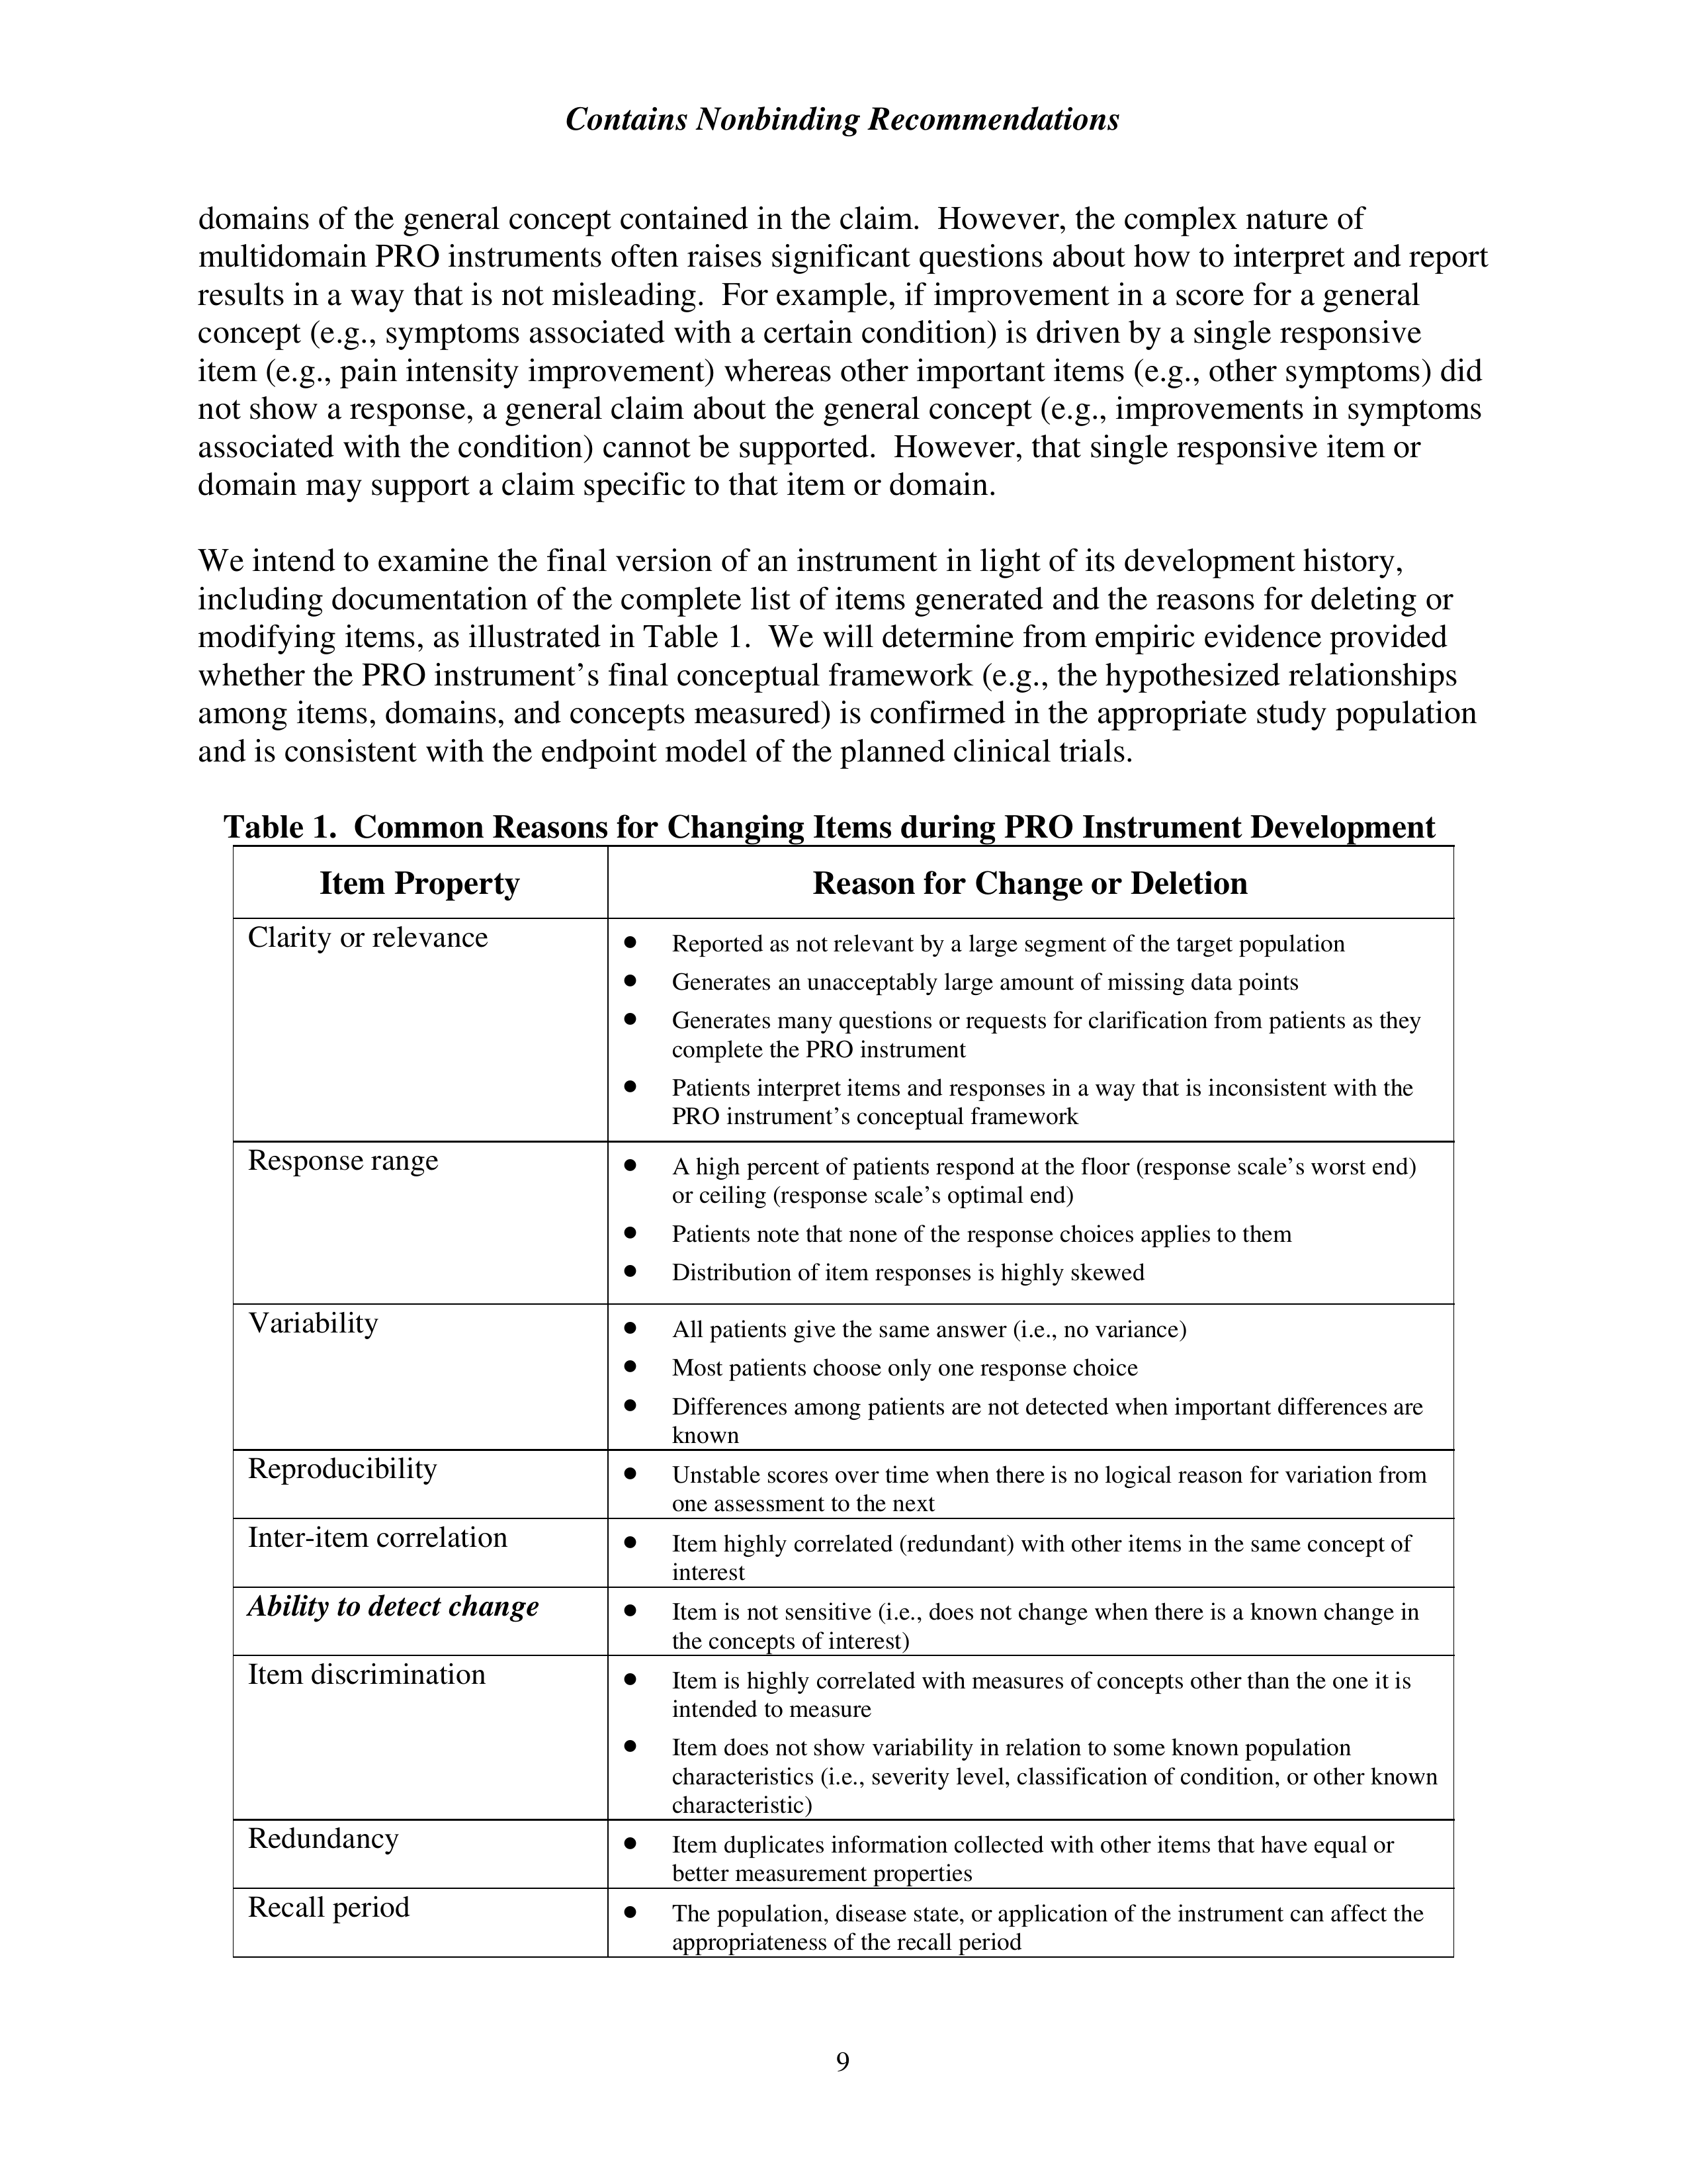table: (229, 841, 1457, 1959)
